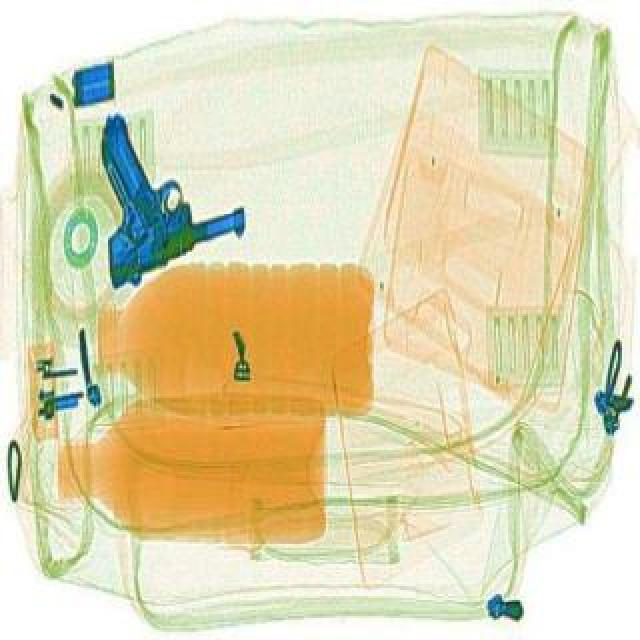gun: (40, 84, 256, 290)
